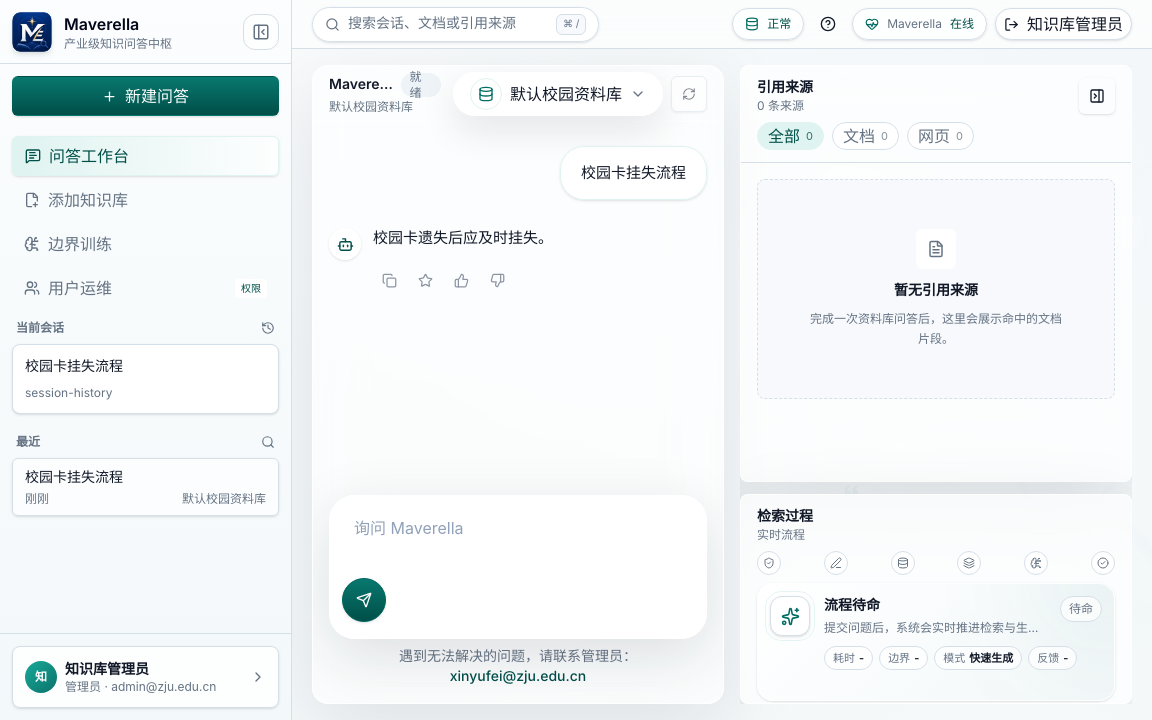
Test case: ChatWorkspace › records answer feedback in the conversation
The image size is (1152, 720).
Click the button named "回答有帮助" at x=461, y=280, box [445, 264, 477, 296]
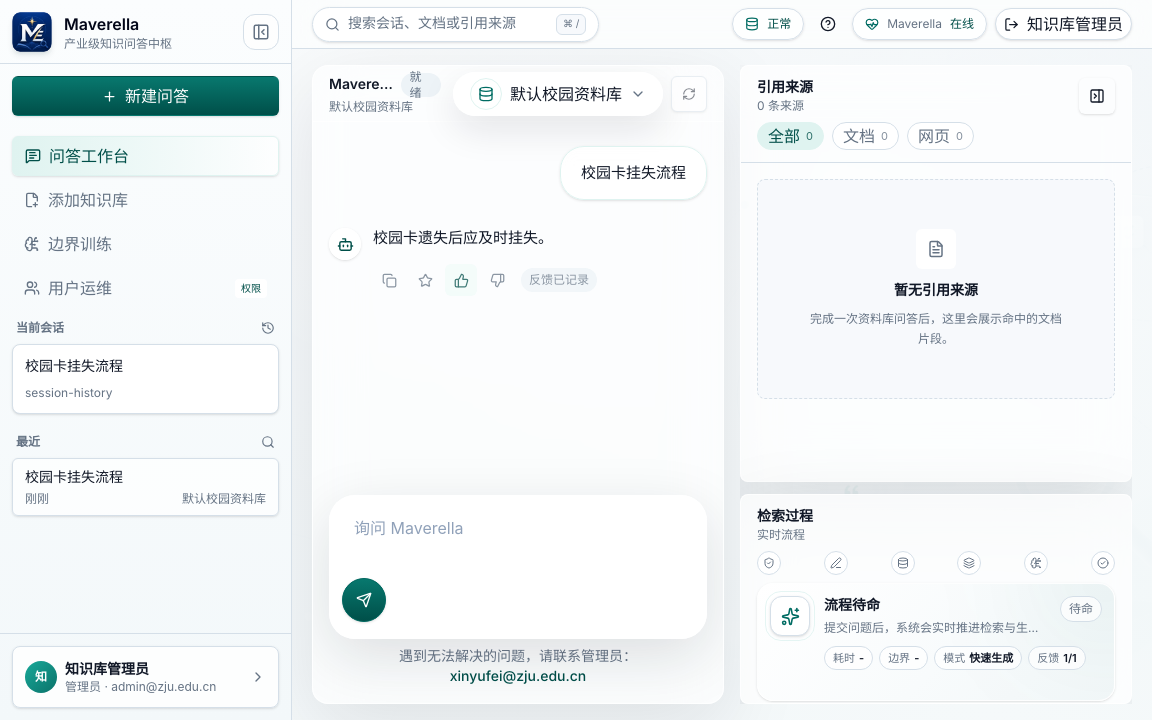
Expected: the text "反馈已记录" is shown, [521, 268, 597, 292]
